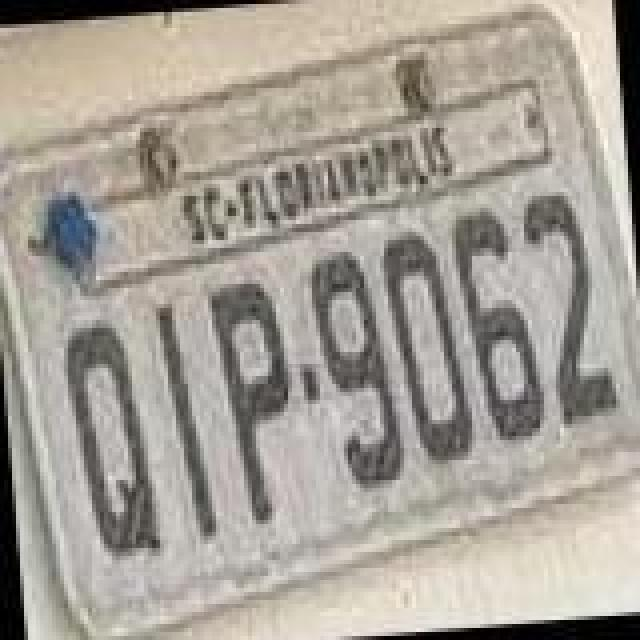1: (152, 298, 224, 550)
2: (516, 188, 620, 436)
6: (446, 202, 546, 446)
9: (304, 244, 408, 492)
O: (378, 226, 478, 470)
P: (208, 274, 304, 526)
Q: (58, 314, 166, 566)
